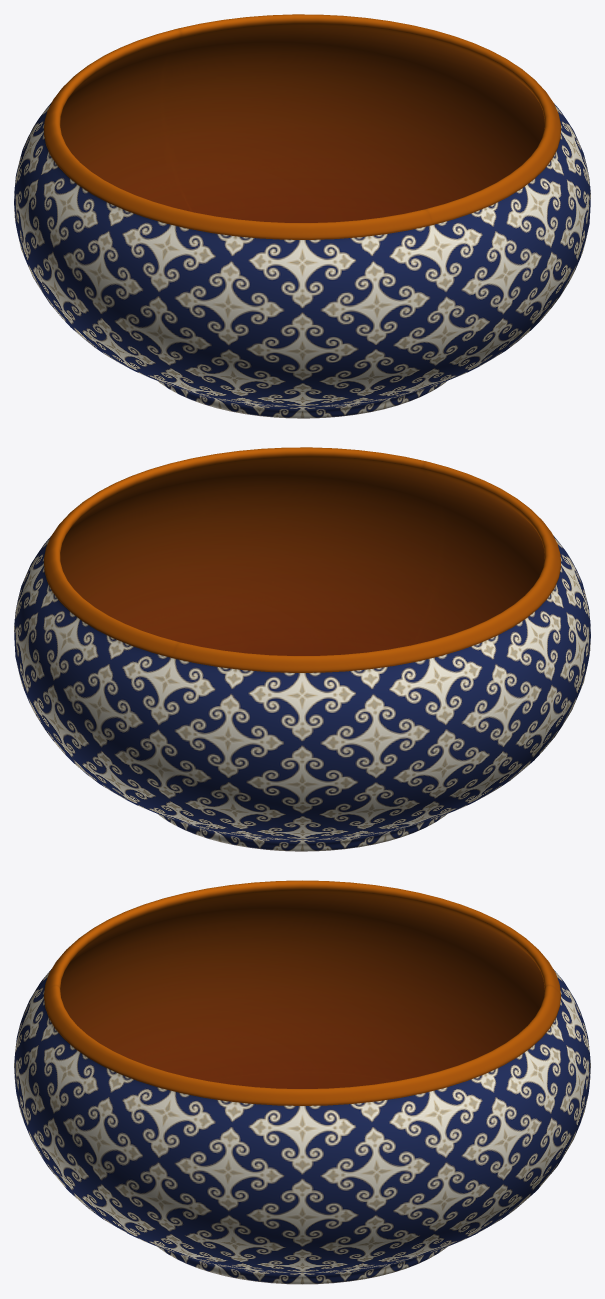
Rendered from Gom.glb.
3 views of the same model, one above another, from view 1: azimuth 30°, elevation 25°; view 2: azimuth 150°, elevation 25°; view 3: azimuth 270°, elevation 25° (orthographic).
Visible parts, largest first — view 1: ciqiwan; view 2: ciqiwan; view 3: ciqiwan.
Part boxes in pixels (box(x1,y1,x2,y2)): ciqiwan: box(14, 14, 590, 418); ciqiwan: box(14, 447, 590, 851); ciqiwan: box(14, 880, 590, 1284).
Size of the model in its own units: 0.1556 by 0.0689 by 0.1556.
Materials: 1 (1 with a texture image).
